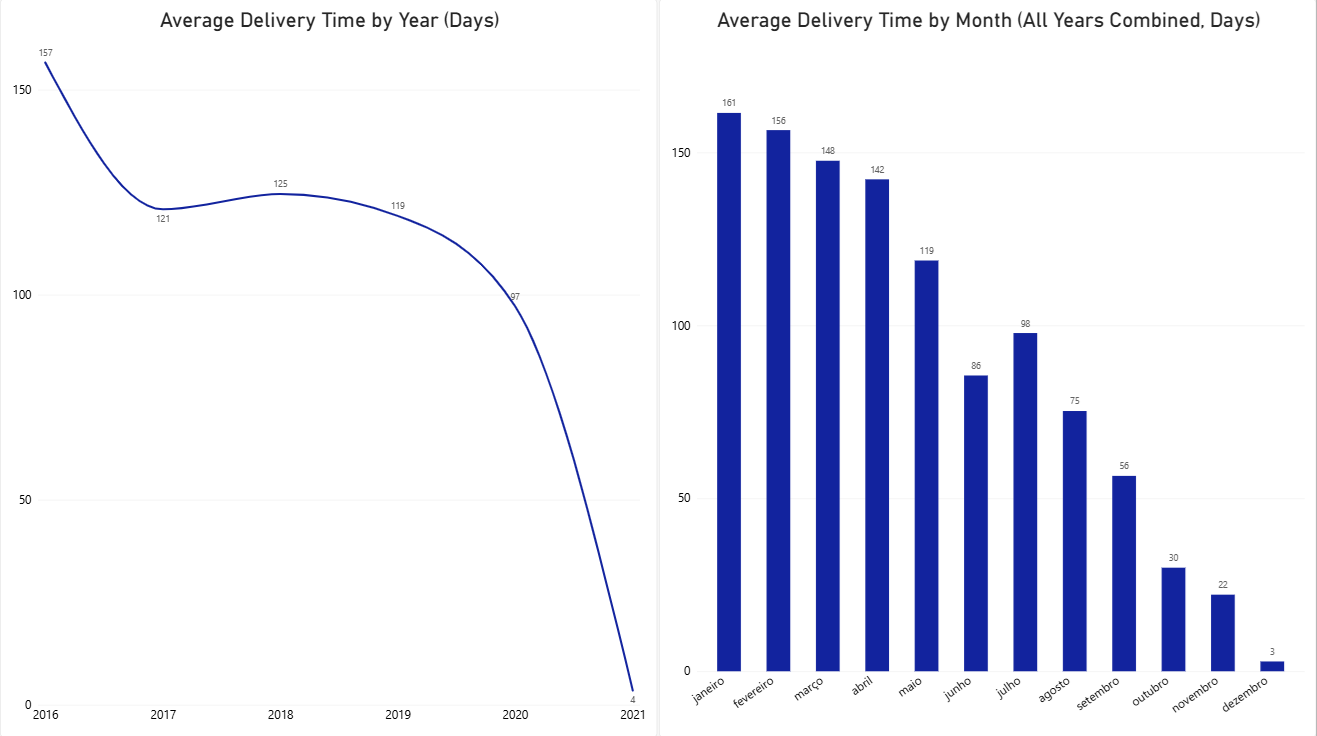

The dashboard page shown, as its layout file describes it:
{"tool":"powerbi","page":{"name":"Delivery Performance ","canvas":[1920,1080],"ordinal":3},"visuals":[{"type":"lineChart","title":"Average Delivery Time by Year (Days)","fields":{"Category":["Sales.Order Date.Variation.Hierarquia de datas.Ano"],"Y":["Sales.Tempo Médio de Entrega"]},"box":[0,0,959.2,1080.3],"z":0},{"type":"columnChart","title":"Average Delivery Time by Month (All Years Combined, Days)","fields":{"Category":["Sales.Order Date.Variation.Hierarquia de datas.Mês"],"Y":["Sales.Tempo Médio de Entrega"]},"box":[961.5,0,959.2,1080.3],"z":1000}]}

Visuals, with their boxes in screenshot pixels (x1, y1, x2, y2), scaled from the page's 1920x1080 canvas onto the 1317x736 screenshot:
"Average Delivery Time by Year (Days)" lineChart: 0, 0, 658, 735
"Average Delivery Time by Month (All Years Combined, Days)" columnChart: 660, 0, 1316, 735
